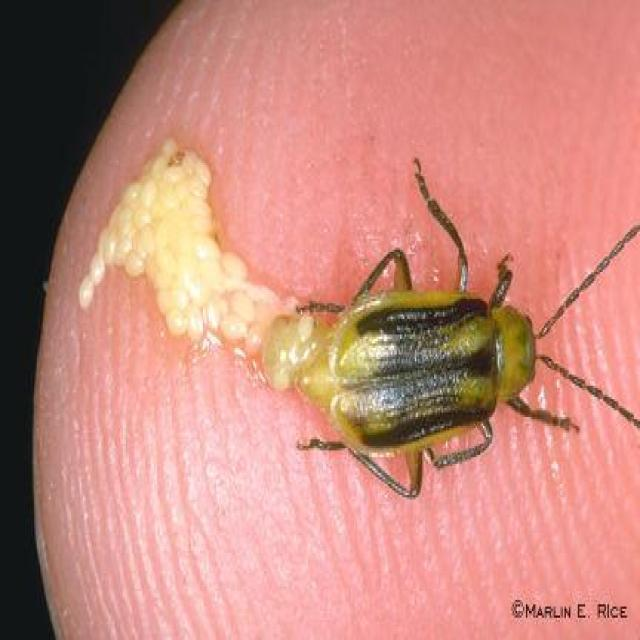trips: (290, 133, 604, 585)
